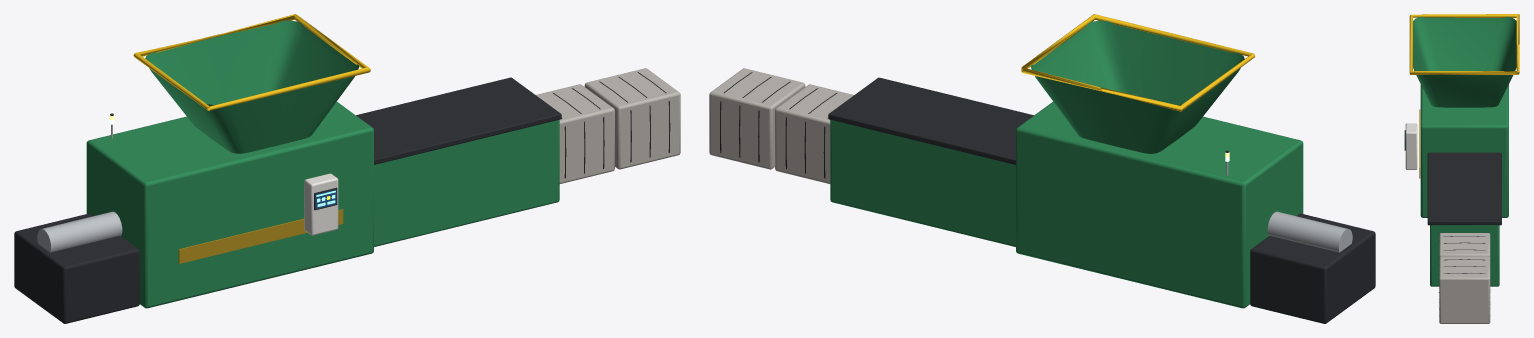
Rendered from channel_baler.fbx.
The picture shows the model from 3 angles, left to right: view 1: azimuth 30°, elevation 25°; view 2: azimuth 150°, elevation 25°; view 3: azimuth 270°, elevation 25°; orthographic projection. The views are drawn at different scales.
Parts seen in each view (by area): view 1: channel_baler; view 2: channel_baler; view 3: channel_baler.
Boxes of the visible parts, x1,y1,x2,y2 form: channel_baler: (14, 14, 680, 323); channel_baler: (709, 14, 1375, 323); channel_baler: (1404, 14, 1519, 323).
Size of the model in its own units: 11.42 by 3.4 by 2.49.
